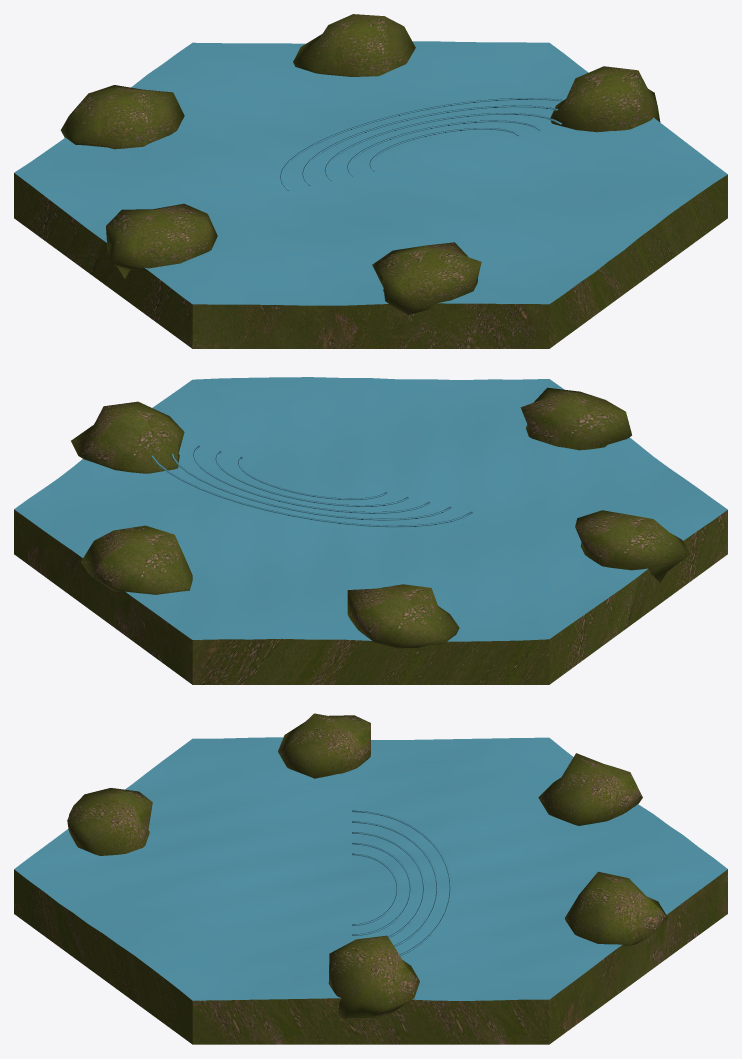
Rendered from env-terrain-lake.glb.
3 renders of one model, top to bottom at view 1: azimuth 30°, elevation 25°; view 2: azimuth 150°, elevation 25°; view 3: azimuth 270°, elevation 25°, orthographic.
Parts seen in each view (by area): view 1: terrain lake · authored textured miniature; view 2: terrain lake · authored textured miniature; view 3: terrain lake · authored textured miniature.
Boxes of the visible parts, bbox=[...] form: terrain lake · authored textured miniature: bbox=[14, 14, 727, 348]; terrain lake · authored textured miniature: bbox=[14, 377, 727, 684]; terrain lake · authored textured miniature: bbox=[14, 713, 727, 1044].
Bounding box in the file's own units: 1.77 × 0.2551 × 1.88.
Materials: 2 (1 with a texture image).
